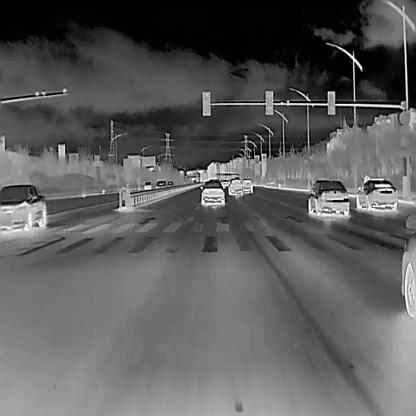car: (0, 183, 46, 232), (306, 178, 350, 214), (355, 177, 398, 212), (198, 178, 226, 206), (227, 177, 243, 196), (240, 177, 253, 194), (155, 178, 166, 192), (142, 180, 152, 190), (165, 180, 174, 190)
